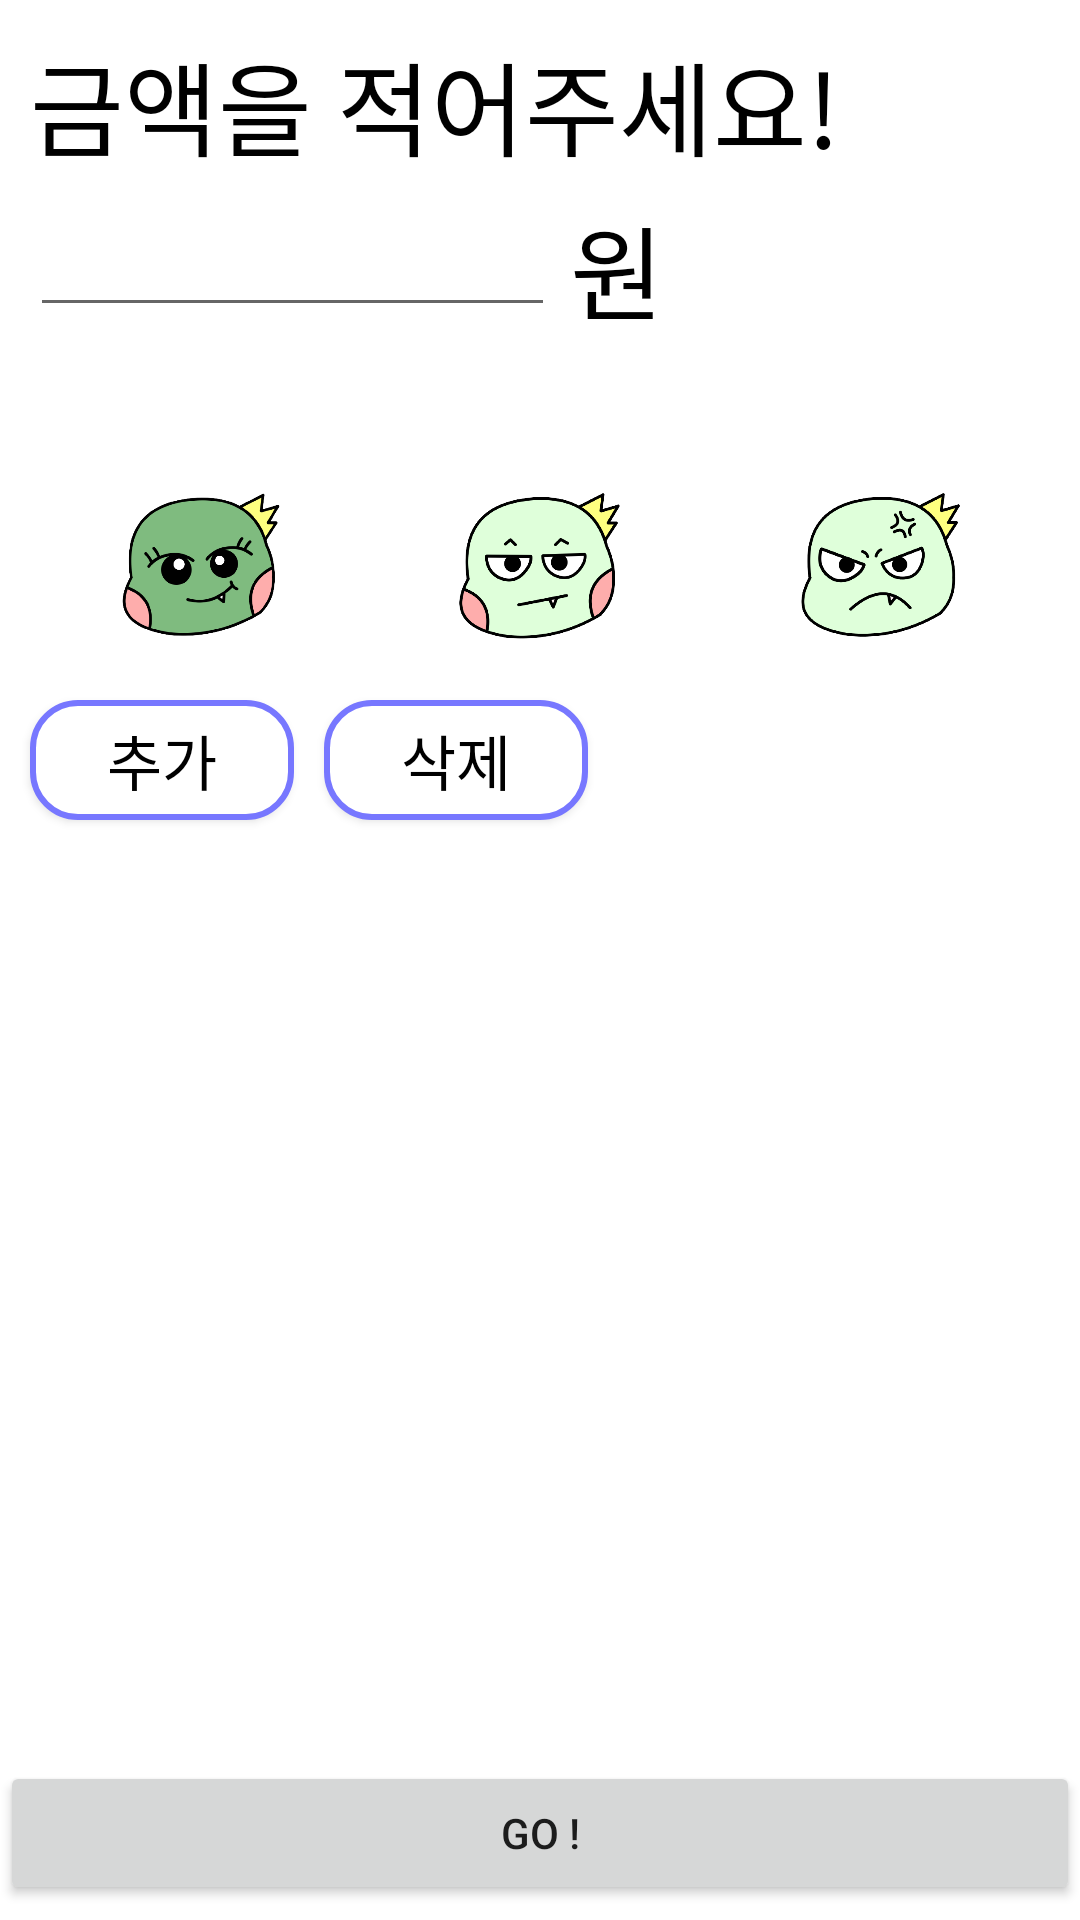

Locate icon controls on the screen. Image size 1080×1920, boxes as [left=x1, top=y1, right=x2, bottom=y2].
kind click: [left=122, top=493, right=280, bottom=636]
mad: [left=801, top=493, right=960, bottom=637]
